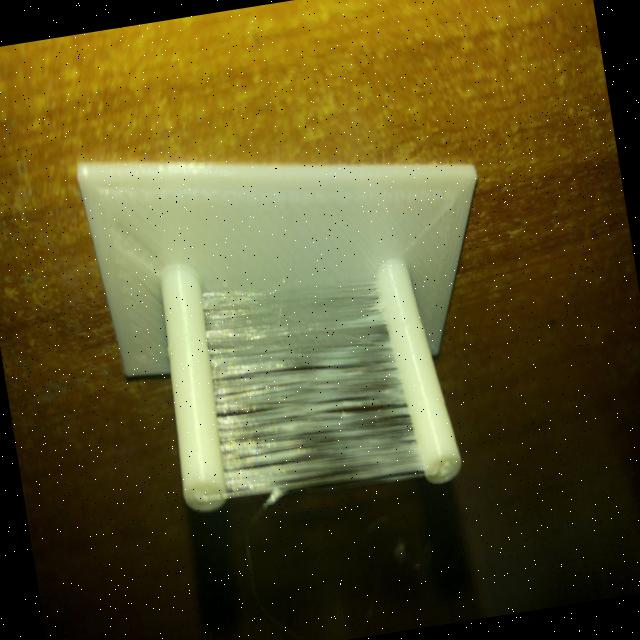stringing: (201, 276, 423, 498)
